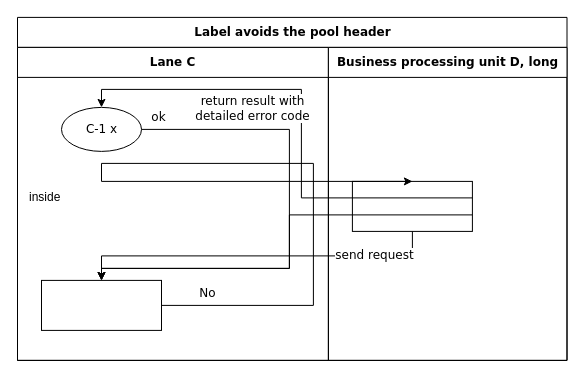
This 585x378 diagram has some shape labels left out. The shapes that lost their labels are listed below. From the top down, each one's centre as x and y in pixels, then its label:
At [411,205]: "C-2 x".
At [101,304]: "C-3 x".
